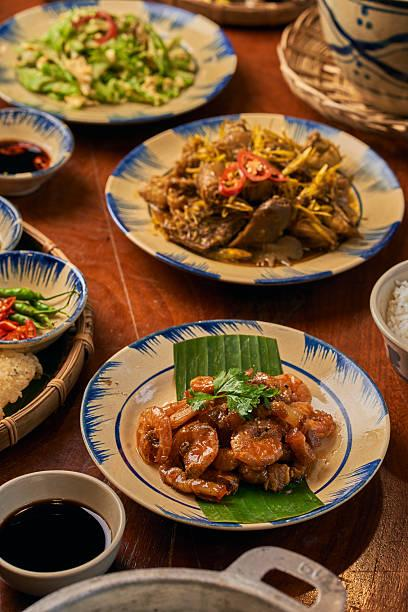Braised Crucian Carp: (76, 317, 397, 536), (104, 116, 408, 287), (0, 0, 234, 125)
